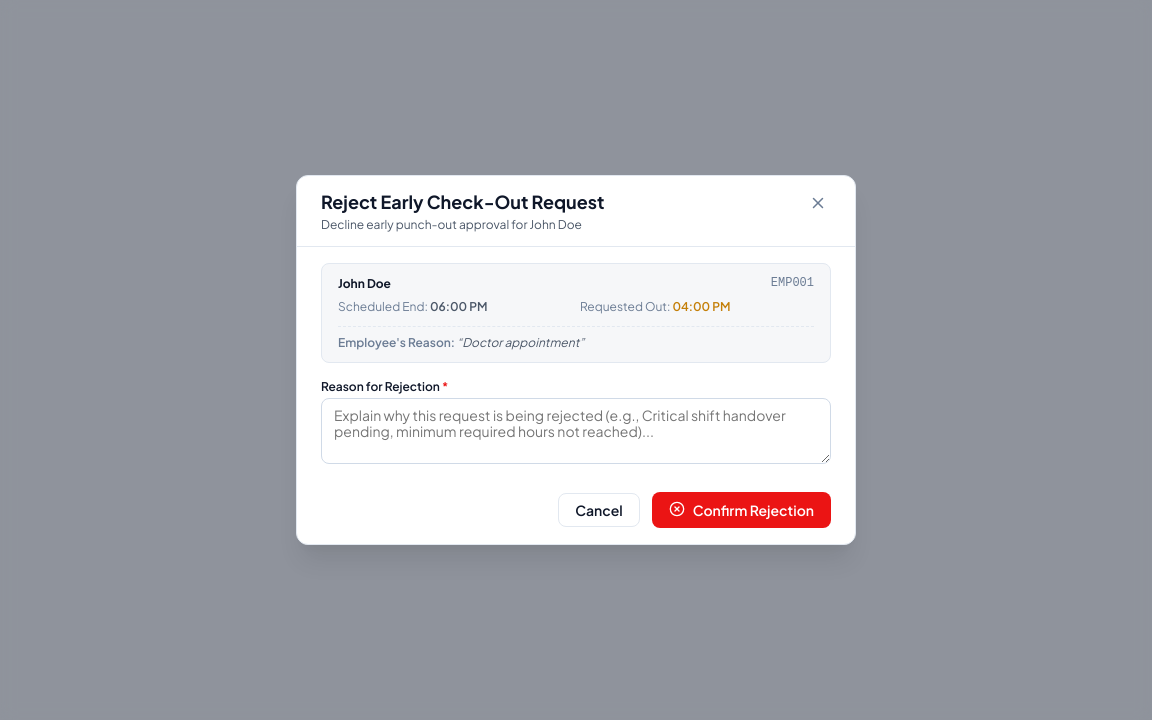
Test: EarlyCheckoutRequestsView & RejectModal Tests › validates empty rejection reason in RejectEarlyCheckoutModal
Click the button "Confirm Rejection" at point(741, 510), box 652,492 -> 831,528
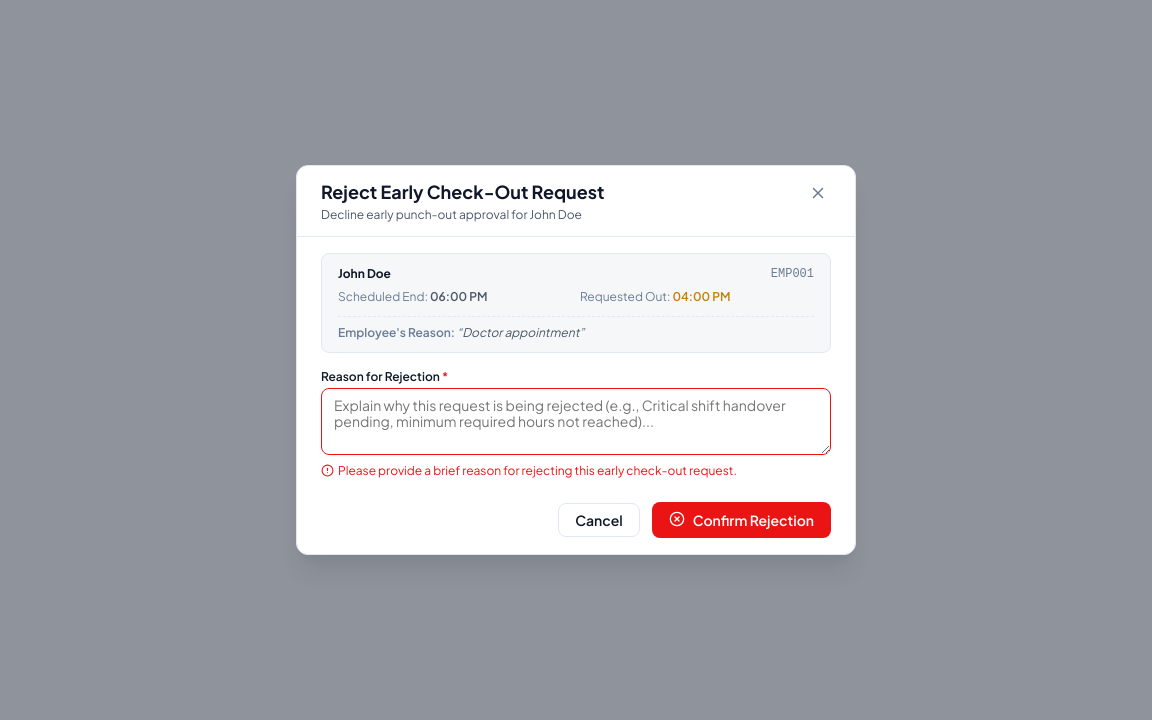
Now the text "Please provide a brief reason for rejecting" is shown, box 338,463 -> 737,478
